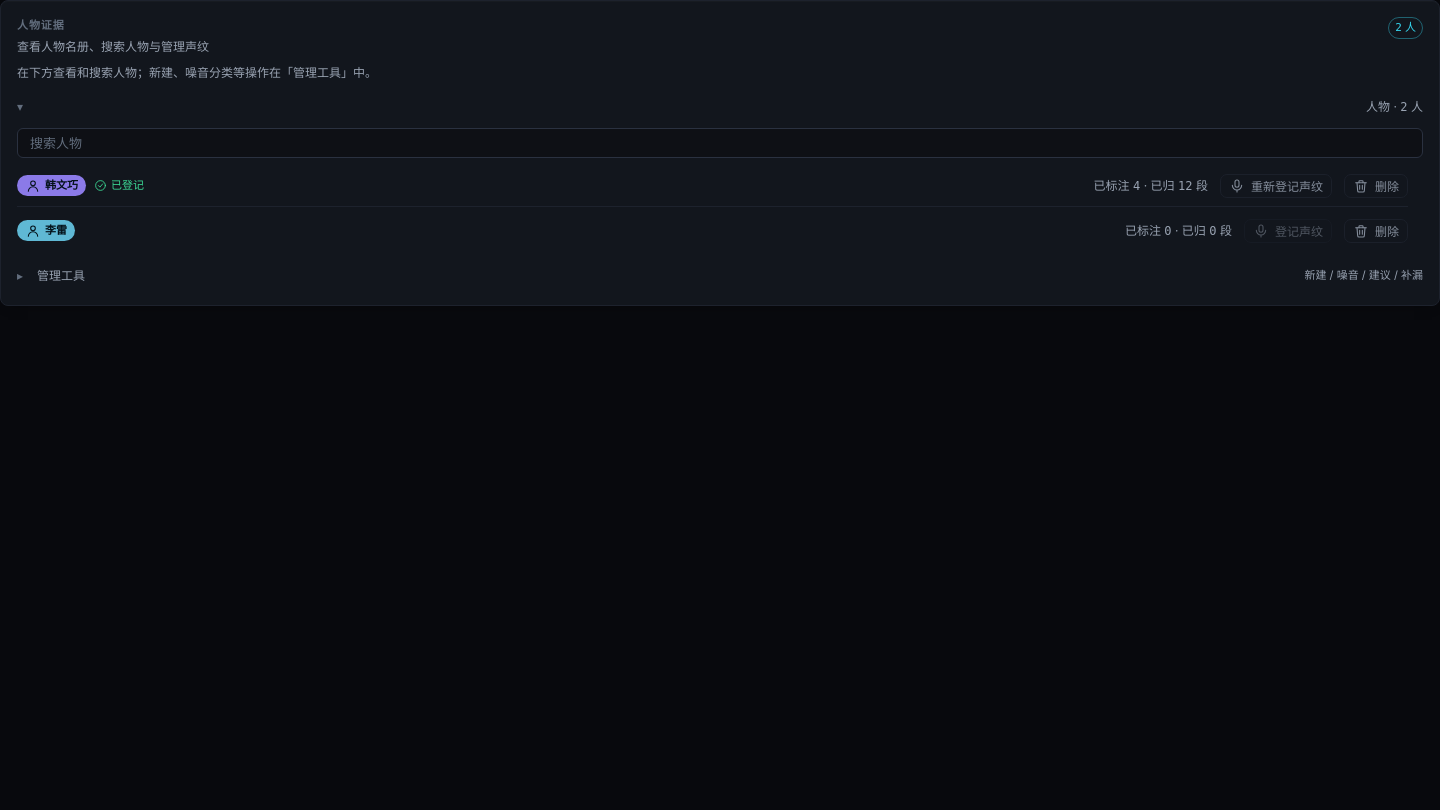
Test case: PeoplePanel › 智能建议 with a session fetches suggestions and renders them with a confidence chip
Click the heading "管理工具 新建 / 噪音 / 建议 / 补漏" at (61, 275), box [37,268,1423,282]
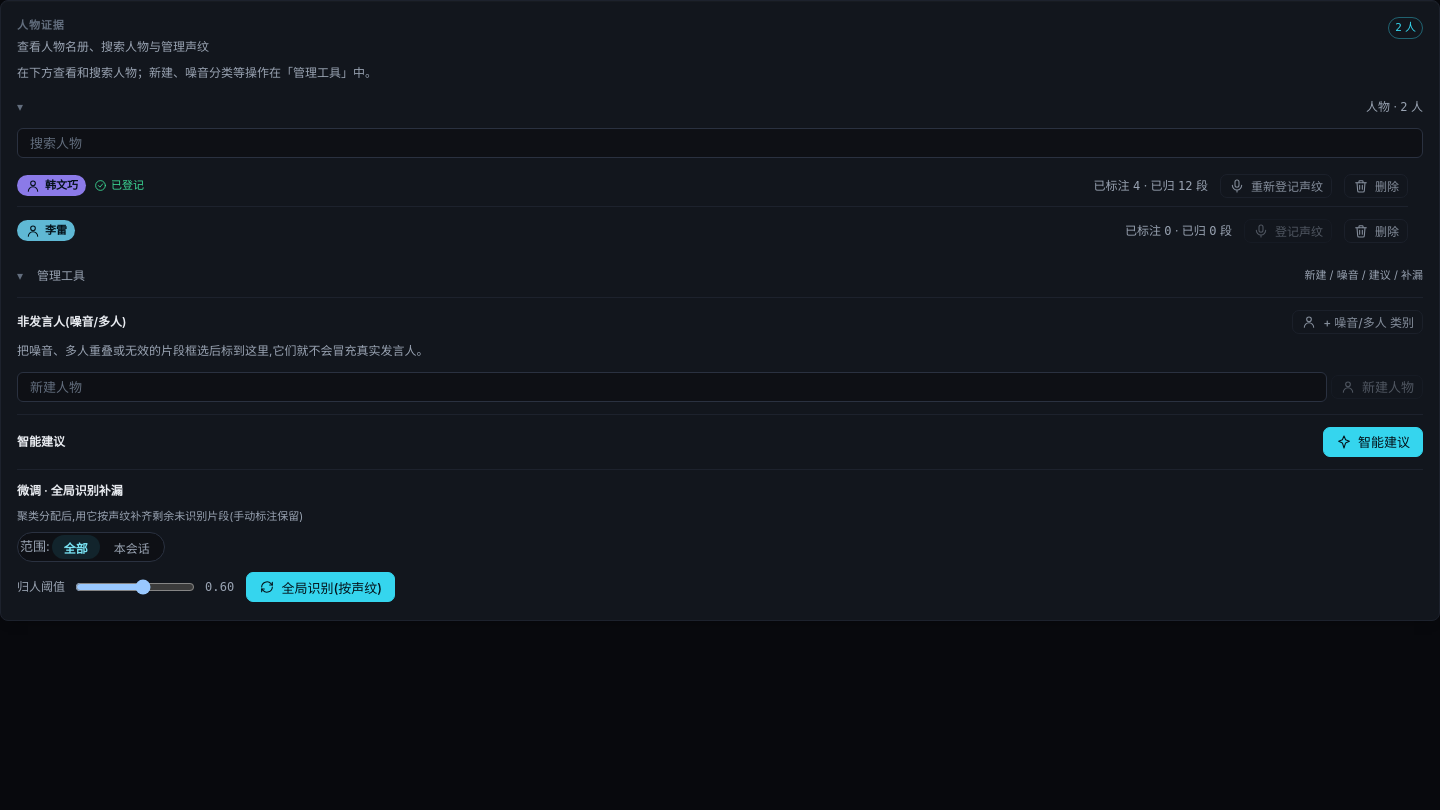
Click the button "智能建议" at (1373, 442), box [1323,426,1423,456]
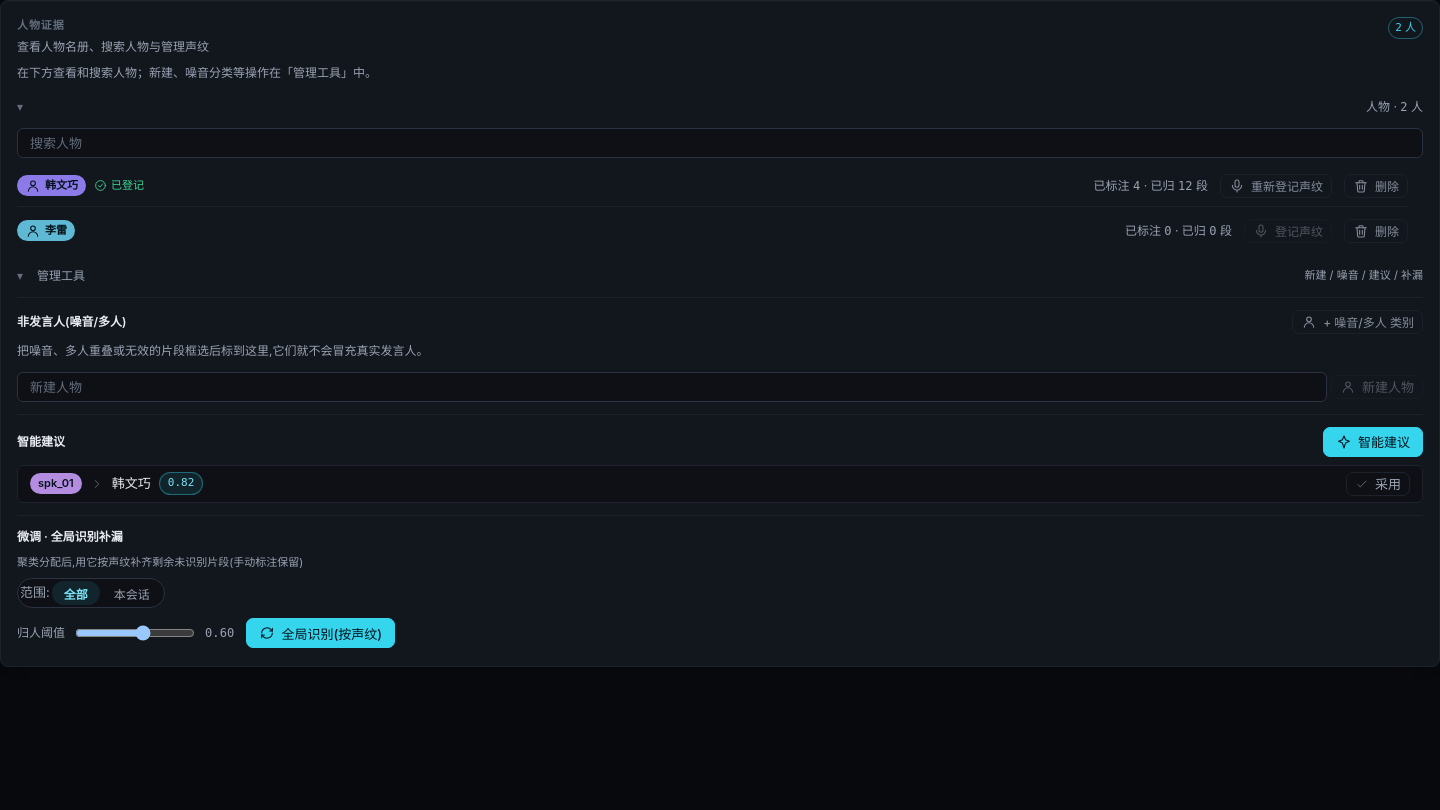
Expected: the text "spk_01" is shown, [30,473,82,494]
Expected: the list item "spk_01 韩文巧 0.82 采用" is shown, [17,464,1423,502]
Expected: the text with class "confidence-chip" reads "0.82", [168,476,194,489]
